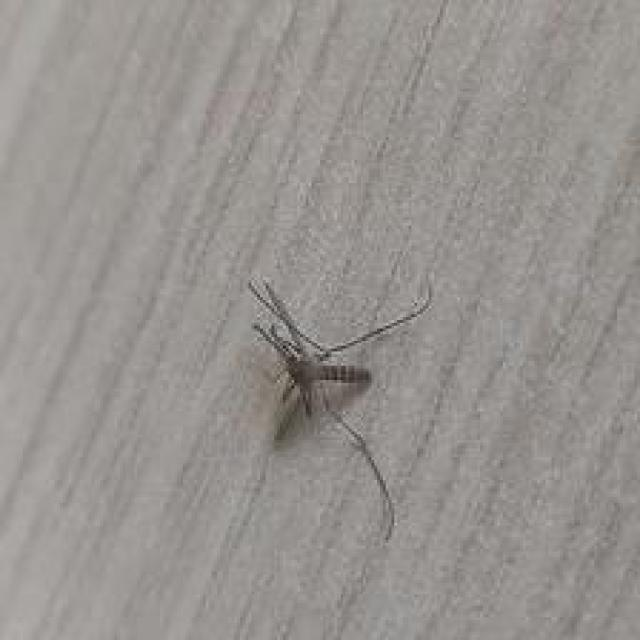Culex: (246, 264, 434, 544)
